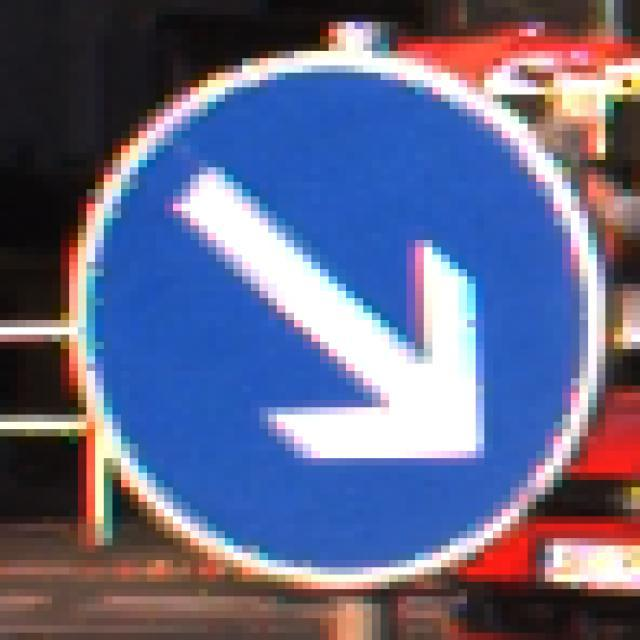compulsary keep right: (62, 47, 612, 592)
